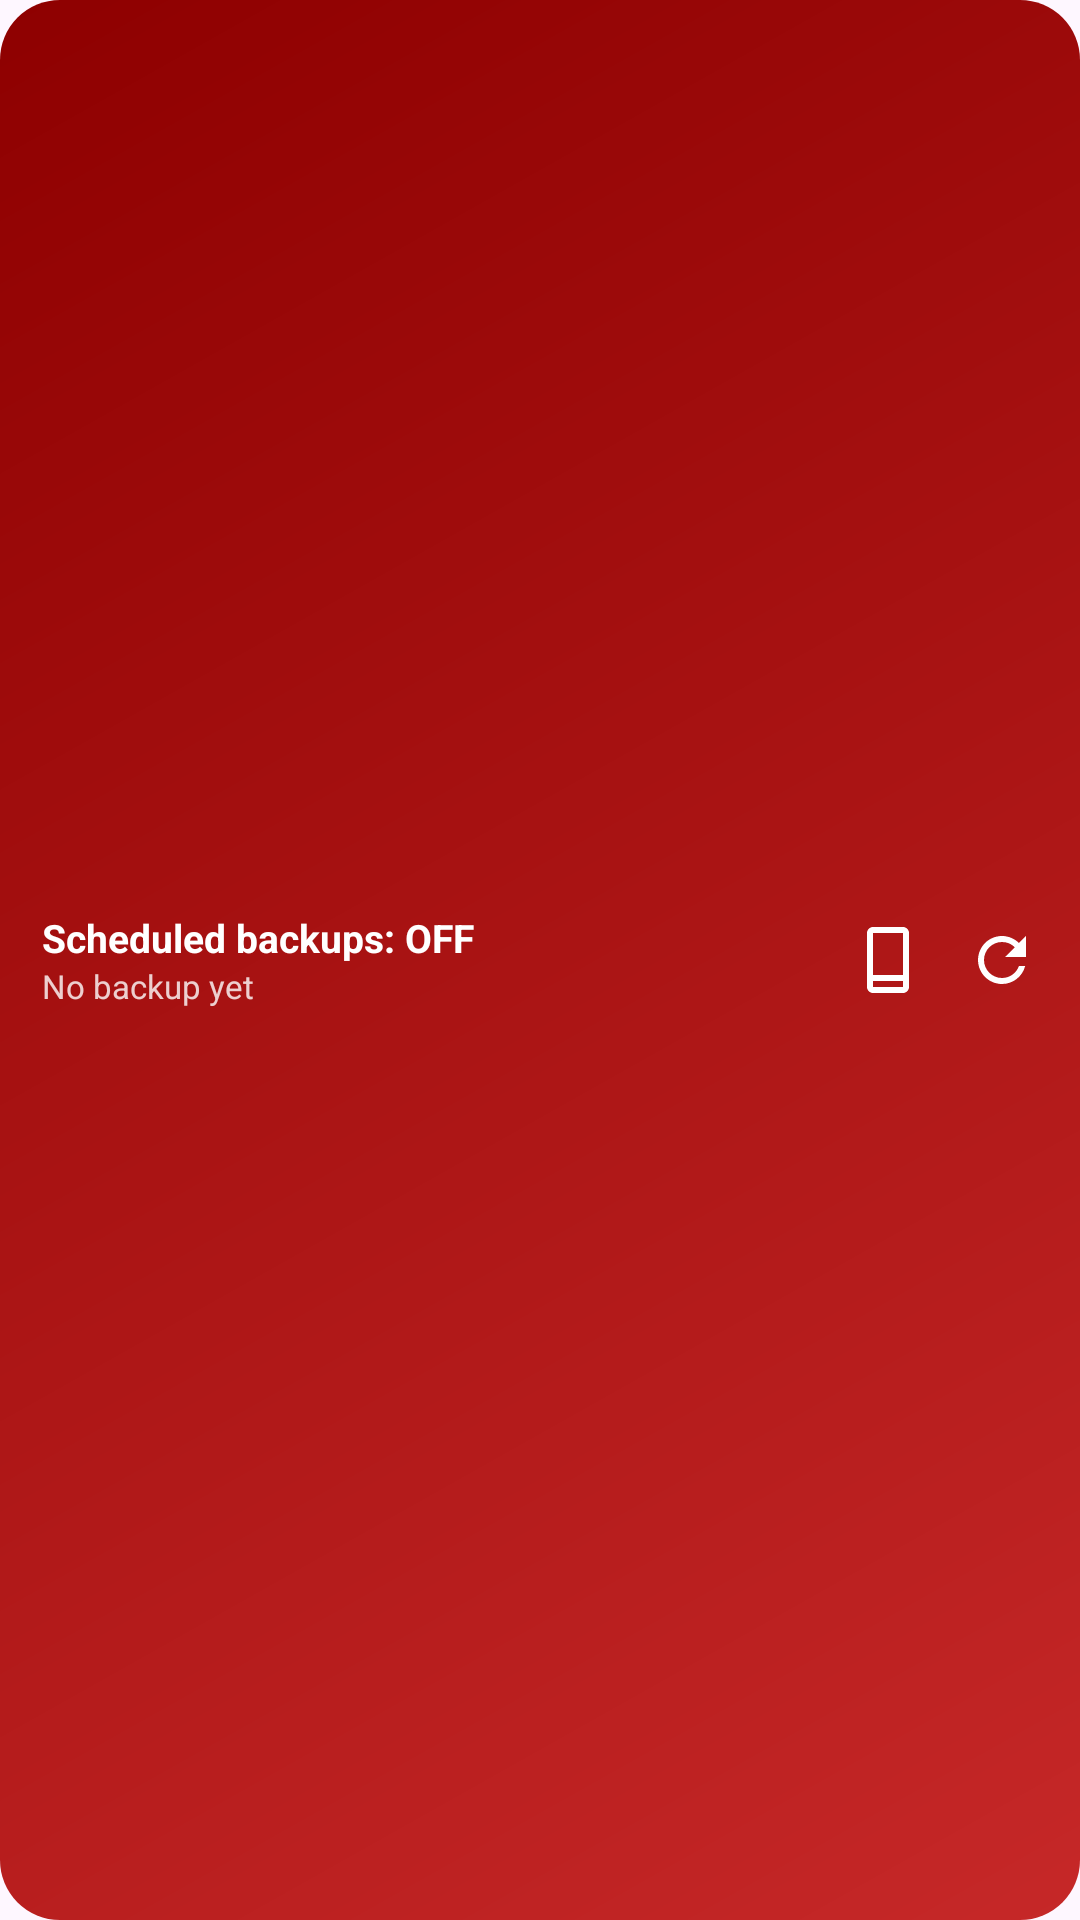

Icons on this 1080px x 1920px Android screen, each with its box as (x1, y1, x2, y2):
Refresh: (978, 936, 1026, 984)
